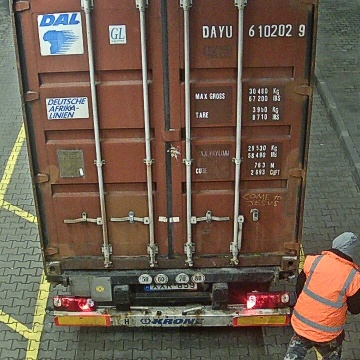serial_id: (200, 23, 306, 38)
